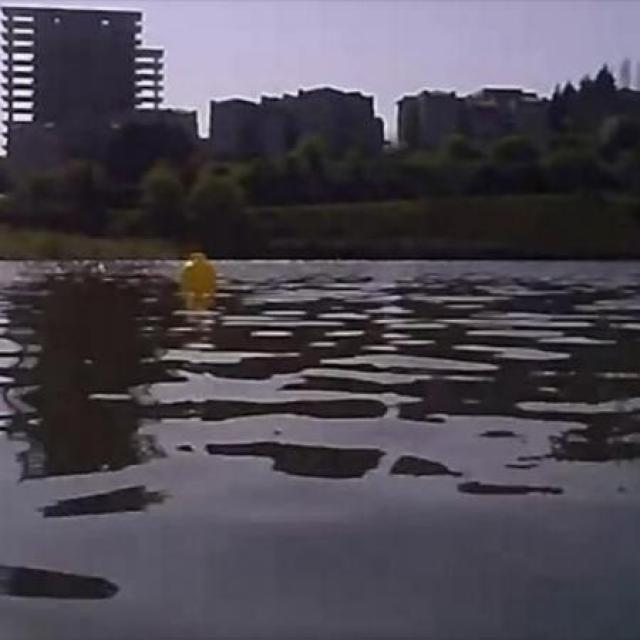buoy: (181, 255, 217, 293)
